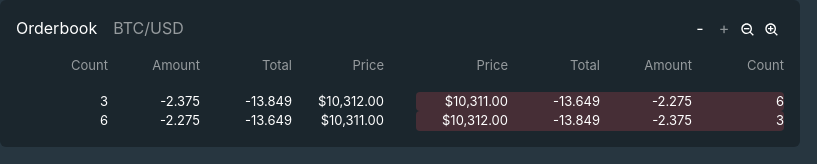
OrderBook › should be able to decrease precision correctly
Click the button with test id "decrease-precision" at (700, 28), box [688,16,712,40]
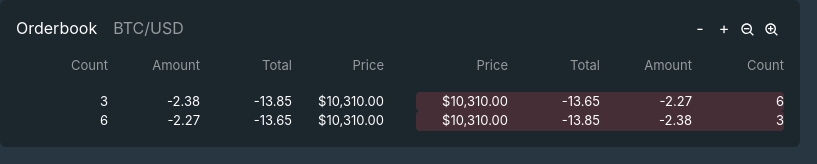
Expected: the 2nd text with test id "ask-price" reads "$10,310.00", [442,92,508,108]
Expected: the 1st text with test id "ask-amount" reads "-2.27", [660,92,692,108]
Expected: the 1st text with test id "ask-total" reads "-13.65", [562,92,600,108]
